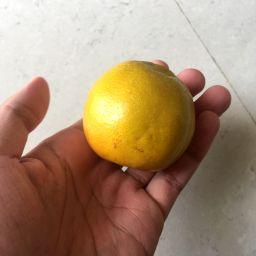Ripe: (85, 63, 196, 165)
